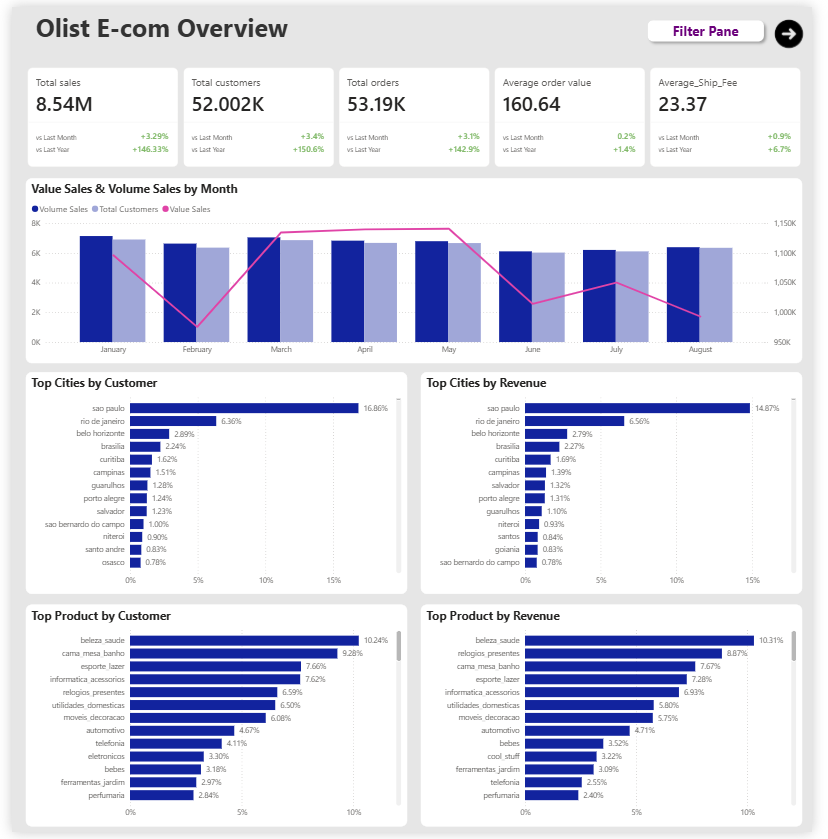

The page's visual inventory and layout, read from the dashboard file:
{"tool":"powerbi","page":{"name":"Executive Overview","canvas":[1280,1320],"ordinal":0},"visuals":[{"type":"shape","box":[0,0,1280,80],"z":0},{"type":"actionButton","box":[1223.3,11.7,56.7,51.7],"z":1000},{"type":"columnChart","fields":{"Category":["dim_date.Year-Month"],"Y":["_measure.revenue_order"],"Series":["fact_orders.customer_type"]},"box":[21.7,963.3,1241.7,356.7],"z":2000},{"type":"clusteredBarChart","fields":{"Category":["dim_customers.customer_state"],"Y":["_measure.payment_value"]},"box":[656.7,583.3,606.7,358.3],"z":3000},{"type":"clusteredBarChart","fields":{"Category":["fact_order_items.category"],"Y":["_measure.item_revenue"]},"box":[21.7,583.3,618.3,358.3],"z":4000},{"type":"lineClusteredColumnComboChart","title":"Monthly revenue and average order value","fields":{"Category":["dim_date.Year","dim_date.Month"],"Y":["_measure.revenue_order"],"Y2":["_measure.AOV"]},"box":[22,274,1242,296],"z":5000},{"type":"cardVisual","fields":{"Data":["_measure.Revenue","_measure.orders","_measure.customers","_measure.AOV"]},"box":[0,80,1280,193.3],"z":6000},{"type":"slicer","title":"State","fields":{"Values":["dim_customers.customer_state"]},"box":[1001.3,8.3,166.7,61.7],"z":7000},{"type":"slicer","title":"Month","fields":{"Values":["dim_date.Month"]},"box":[834.9,8.3,161.2,62.5],"z":8000},{"type":"slicer","title":"Year","fields":{"Values":["dim_date.Year"]},"box":[668,8.3,161.7,61.7],"z":9000},{"type":"actionButton","box":[1170,32,50,34],"z":10000}]}

Visuals, with their boxes in screenshot pixels (x1, y1, x2, y2), scaled from the page's 1280x1320 canvas onto the 828x839 screenshot:
shape: (0, 0, 827, 51)
actionButton: (791, 7, 827, 40)
columnChart - dim_date.Year-Month x _measure.revenue_order: (14, 612, 817, 838)
clusteredBarChart - dim_customers.customer_state x _measure.payment_value: (425, 371, 817, 598)
clusteredBarChart - fact_order_items.category x _measure.item_revenue: (14, 371, 414, 598)
"Monthly revenue and average order value" lineClusteredColumnComboChart: (14, 174, 818, 362)
cardVisual - _measure.Revenue x _measure.orders: (0, 51, 827, 174)
"State" slicer: (648, 5, 756, 44)
"Month" slicer: (540, 5, 644, 45)
"Year" slicer: (432, 5, 537, 44)
actionButton: (757, 20, 789, 42)
